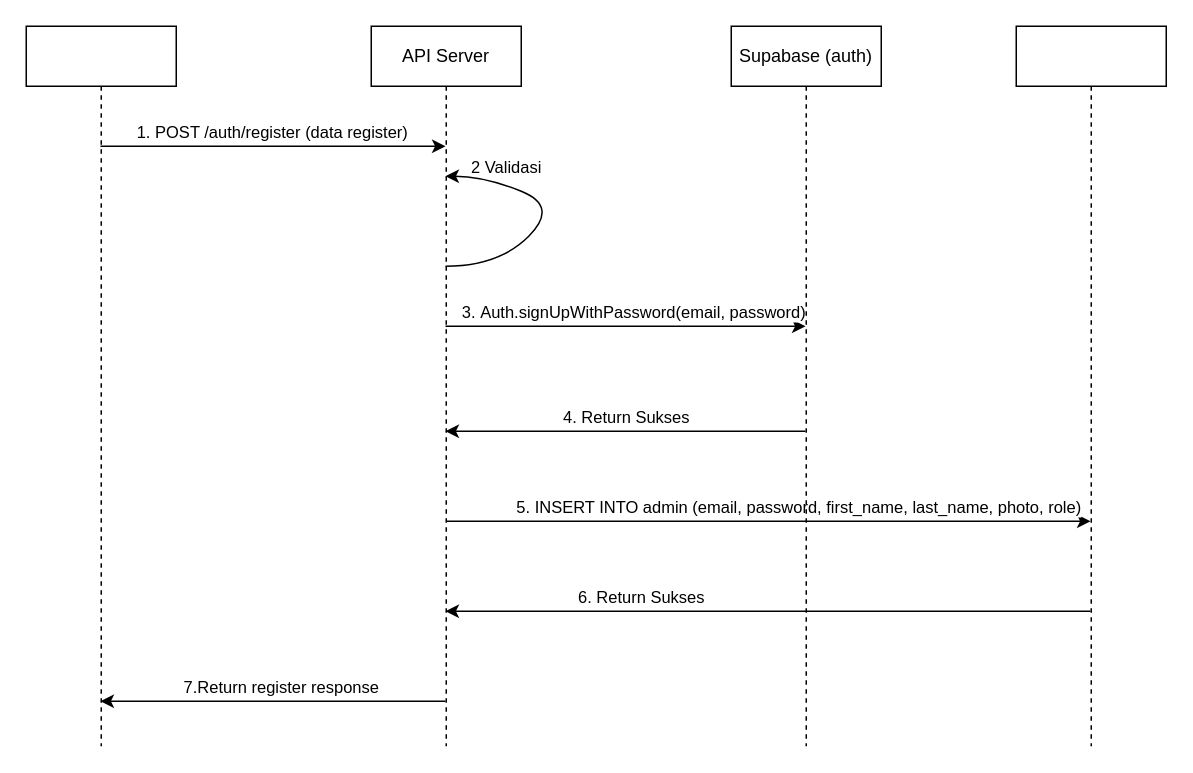
Image size: 1193x773. Some labels were removed from this diagram. Each missing label, with the box of its shape:
Client: (25, 25, 176, 746)
Supabase (admin table): (1015, 25, 1166, 746)
